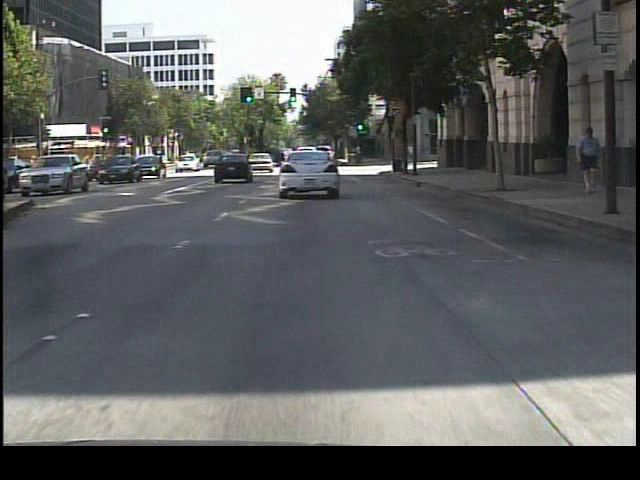person: (572, 123, 601, 198)
